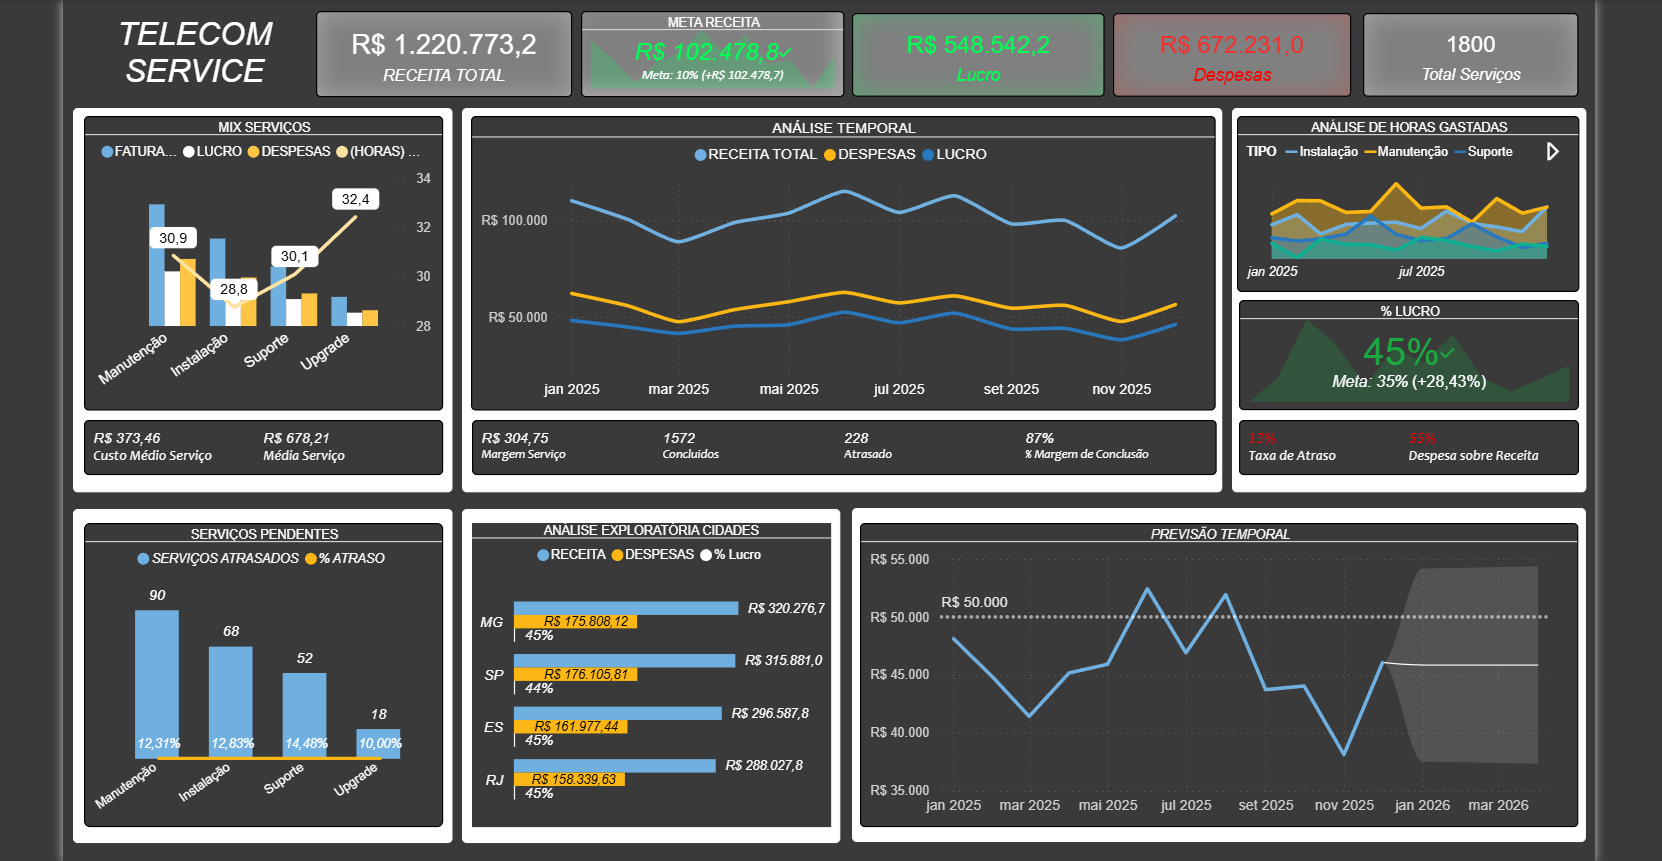

Layout of this report page (visuals, bound fields, positions):
{"tool":"powerbi","page":{"name":"ÁREA ANALÍTICA","canvas":[1280,720],"ordinal":0},"visuals":[{"type":"card","fields":{"Values":["Medidas.Faturamento"]},"box":[211,8.9,213.7,71.8],"z":0},{"type":"card","fields":{"Values":["Medidas.Despesas"]},"box":[876.9,10.6,198.6,70],"z":1000},{"type":"card","fields":{"Values":["Medidas.Lucro"]},"box":[658.8,10.6,211,70],"z":2000},{"type":"card","fields":{"Values":["Medidas.Total Serviços"]},"box":[1086.2,10.6,180,70],"z":3000},{"type":"shape","box":[333.6,90.5,635.1,321],"z":4000},{"type":"lineChart","title":"ANÁLISE TEMPORAL","fields":{"Y":["Medidas.Faturamento","Medidas.Despesas","Medidas.Lucro"],"Category":["Calendario.Ano Mês.Variation.Hierarquia de datas.Mês"]},"box":[340.4,97.3,621.5,246.1],"z":5000},{"type":"multiRowCard","fields":{"Values":["Medidas.Margem por Serviço","Medidas.Serviços Concluidos","Medidas.Serviços Em Atraso","Medidas.Serviços no Prazo","Medidas.% Margem de Conclusão"]},"box":[341.4,351.1,621.6,46.1],"z":6000},{"type":"shape","box":[8.8,90.5,317.1,321],"z":7000},{"type":"lineClusteredColumnComboChart","title":"MIX SERVIÇOS","fields":{"Category":["Dataset.Tipo_Servico"],"Y":["Medidas.Faturamento","Medidas.Lucro","Medidas.Despesas"]},"box":[17.5,97.3,299.6,246.1],"z":8000},{"type":"multiRowCard","fields":{"Values":["Medidas.Custo Médio por Serviço","Medidas.Ticket_Serviço"]},"box":[17.5,351.1,299.6,45.7],"z":9000},{"type":"shape","box":[976.5,90.5,295.7,321],"z":10000},{"type":"kpi","title":"% LUCRO","fields":{"Indicator":["Medidas.% Margem de Lucro"],"Goal":["Medidas.Meta"],"TrendLine":["Calendario.Mês Num"]},"box":[982.4,250.9,284,92.4],"z":11000},{"type":"multiRowCard","fields":{"Values":["Medidas.% Taxa de Atraso","Medidas.% Despesa sobre Faturamento"]},"box":[982.5,351.1,283.7,46.1],"z":12000},{"type":"shape","box":[8.8,425,317.1,279.1],"z":13000},{"type":"shape","box":[333.6,425,316.1,279.1],"z":15000},{"type":"clusteredBarChart","title":"ANÁLISE EXPLORATÓRIA CIDADES","fields":{"Category":["Dataset.Estado"],"Y":["Medidas.Faturamento","Medidas.Despesas","Medidas.% Margem de Lucro"]},"box":[341.4,437.1,299.7,253.6],"z":16000},{"type":"shape","box":[658.8,424.7,612.7,279.3],"z":17000},{"type":"lineClusteredColumnComboChart","title":"SERVIÇOS PENDENTES","fields":{"Category":["Dataset.Tipo_Servico"],"Y":["Medidas.Serviços Em Atraso"],"Y2":["Medidas.% Atraso"]},"box":[17.7,437.1,299.7,253.6],"z":18000},{"type":"textbox","box":[8.8,8.8,202.3,72],"z":21000},{"type":"lineChart","title":"PREVISÃO TEMPORAL","fields":{"Y":["Medidas.Lucro"],"Category":["Calendario.Ano Mês"]},"box":[665.9,437.1,600.3,253.6],"z":21001},{"type":"lineChart","title":"ANÁLISE DESPESAS","fields":{"Y":["Medidas.Despesas"],"Category":["Calendario.Ano Mês"],"Series":["Dataset.Tipo_Servico"]},"box":[980.4,97.3,286,146.9],"z":21002},{"type":"kpi","title":"META RECEITA","fields":{"Indicator":["Medidas.Faturamento"],"Goal":["Medidas.% Meta Receita"],"TrendLine":["Calendario.Ano Mês"]},"box":[432.7,8.9,219.9,71.8],"z":21003}]}

Visuals, with their boxes in screenshot pixels (x1, y1, x2, y2):
card - Medidas.Faturamento: l=318, t=15, r=570, b=100
card - Medidas.Despesas: l=1104, t=17, r=1338, b=99
card - Medidas.Lucro: l=846, t=17, r=1095, b=99
card - Medidas.Total Serviços: l=1351, t=17, r=1563, b=99
shape: l=463, t=111, r=1212, b=490
"ANÁLISE TEMPORAL" lineChart: l=471, t=119, r=1204, b=409
multiRowCard - Medidas.Margem por Serviço x Medidas.Serviços Concluidos: l=472, t=419, r=1205, b=473
shape: l=80, t=111, r=454, b=490
"MIX SERVIÇOS" lineClusteredColumnComboChart: l=90, t=119, r=443, b=409
multiRowCard - Medidas.Custo Médio por Serviço x Medidas.Ticket_Serviço: l=90, t=419, r=443, b=472
shape: l=1221, t=111, r=1570, b=490
"% LUCRO" kpi: l=1228, t=300, r=1563, b=409
multiRowCard - Medidas.% Taxa de Atraso x Medidas.% Despesa sobre Faturamento: l=1228, t=419, r=1563, b=473
shape: l=80, t=506, r=454, b=835
shape: l=463, t=506, r=836, b=835
"ANÁLISE EXPLORATÓRIA CIDADES" clusteredBarChart: l=472, t=520, r=826, b=819
shape: l=846, t=505, r=1569, b=835
"SERVIÇOS PENDENTES" lineClusteredColumnComboChart: l=90, t=520, r=444, b=819
textbox: l=80, t=15, r=318, b=100
"PREVISÃO TEMPORAL" lineChart: l=855, t=520, r=1563, b=819
"ANÁLISE DESPESAS" lineChart: l=1226, t=119, r=1563, b=292
"META RECEITA" kpi: l=580, t=15, r=839, b=100
